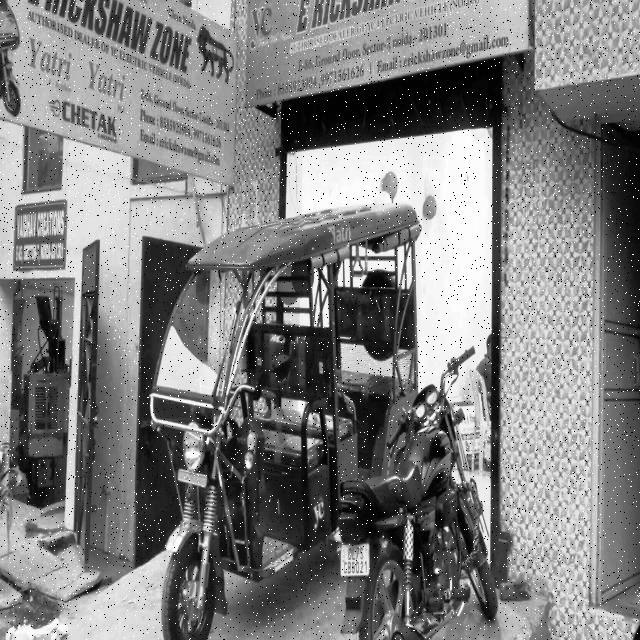Toto: (155, 202, 425, 640)
